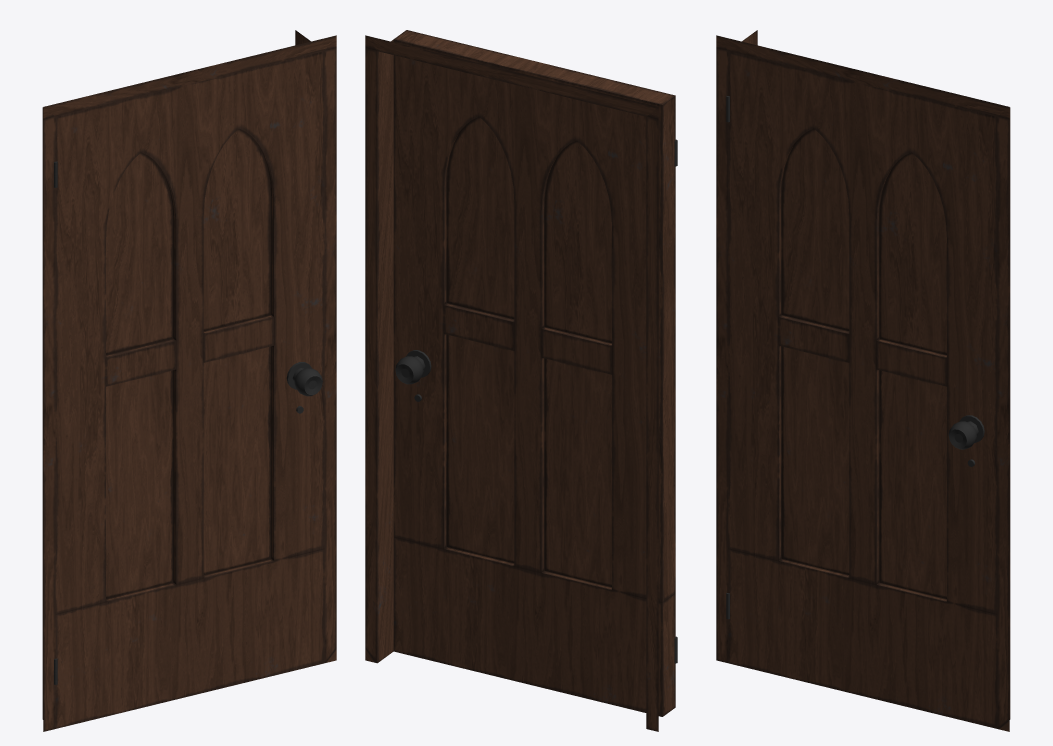
Rendered from Door_K_Frame.fbx.
3 renders of one model, left to right at view 1: azimuth 30°, elevation 25°; view 2: azimuth 150°, elevation 25°; view 3: azimuth 330°, elevation 25°, orthographic.
Visible parts, largest first — view 1: Door_K, Door_K_Frame, Door_K_Knob; view 2: Door_K, Door_K_Frame, Door_K_Knob; view 3: Door_K, Door_K_Frame, Door_K_Knob.
Boxes of the visible parts, x1,y1,x2,y2 form: Door_K: (42, 51, 324, 728); Door_K_Frame: (43, 30, 336, 731); Door_K_Knob: (292, 368, 322, 396); Door_K: (393, 30, 677, 716); Door_K_Frame: (365, 35, 658, 731); Door_K_Knob: (395, 356, 425, 384); Door_K: (726, 51, 1010, 728); Door_K_Frame: (716, 30, 1009, 731); Door_K_Knob: (948, 421, 978, 449).
Bounding box in the file's own units: 1.12 × 0.2868 × 2.28.
